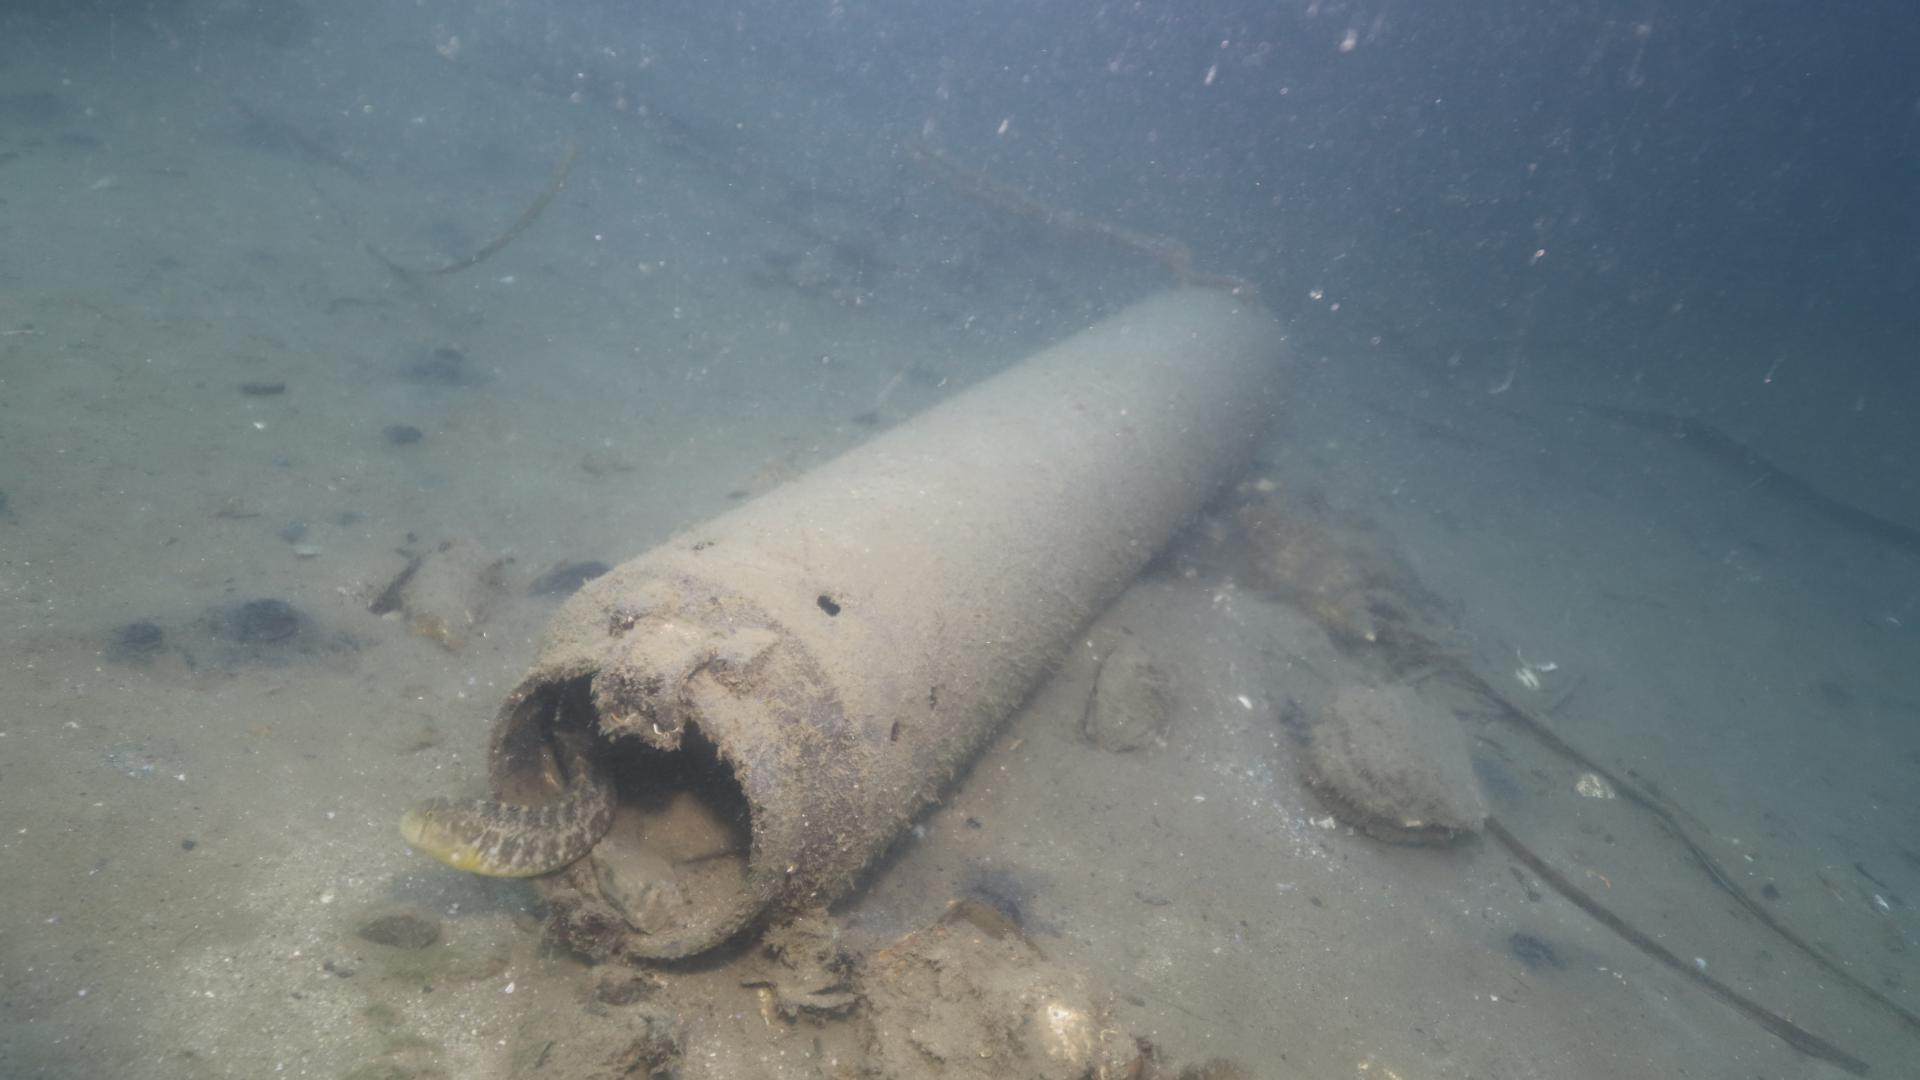eel fish trap: (481, 282, 1294, 961)
